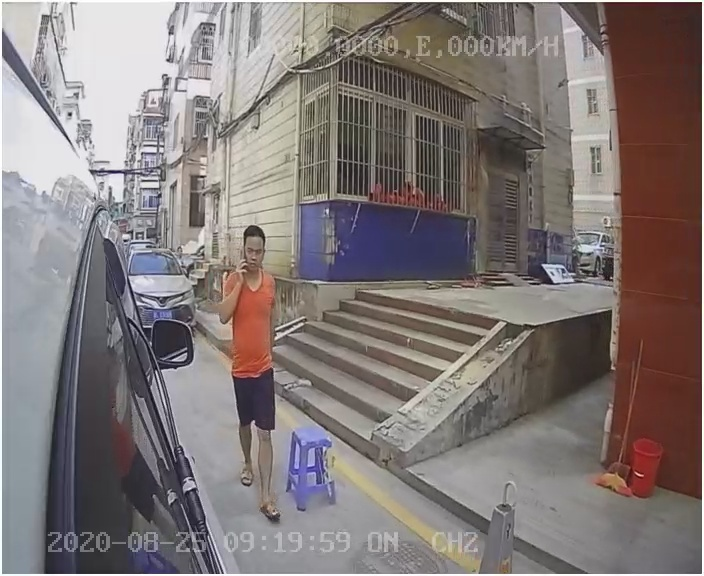person: (211, 217, 295, 527)
